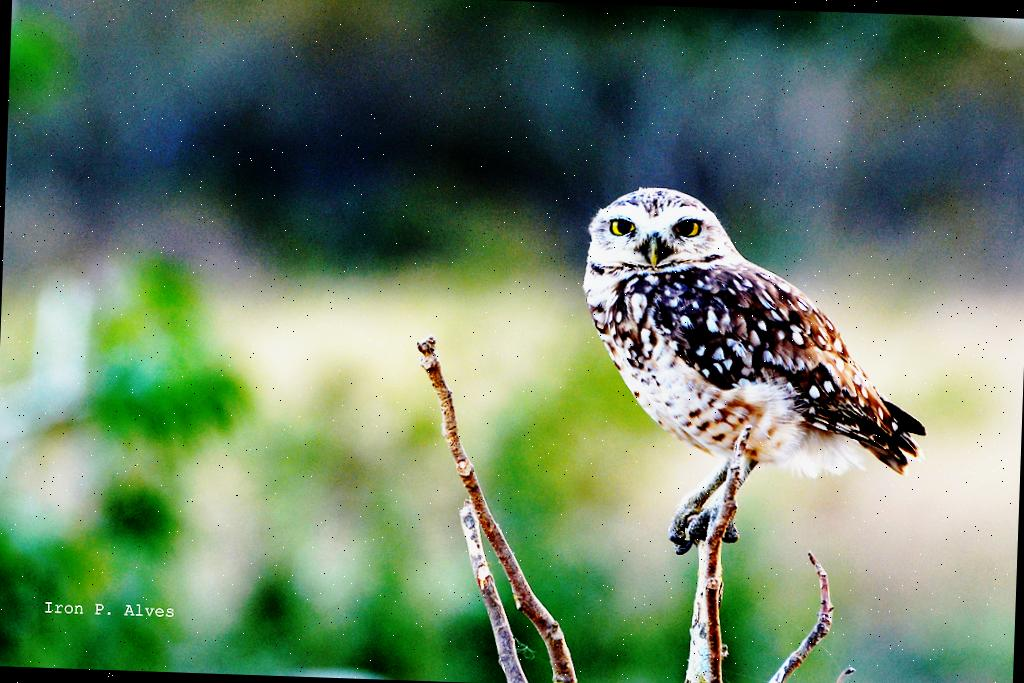Owl: (572, 186, 934, 542)
